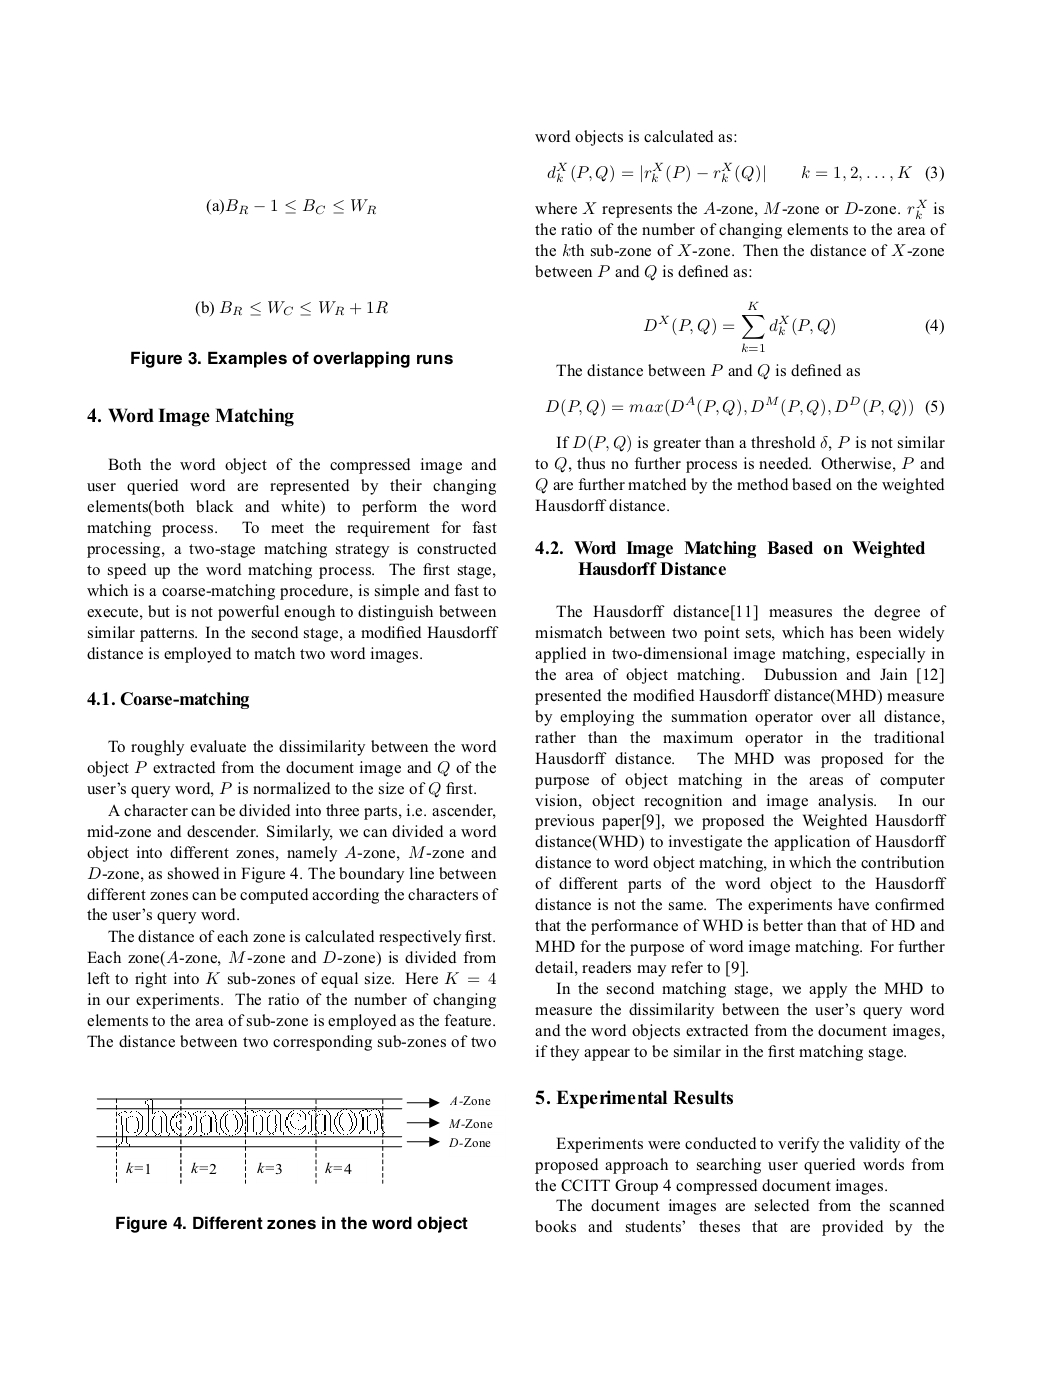figure: (96, 1096, 491, 1184)
formula: (643, 301, 943, 351), (545, 395, 943, 417), (547, 160, 943, 183), (195, 300, 387, 317), (206, 198, 374, 215)
